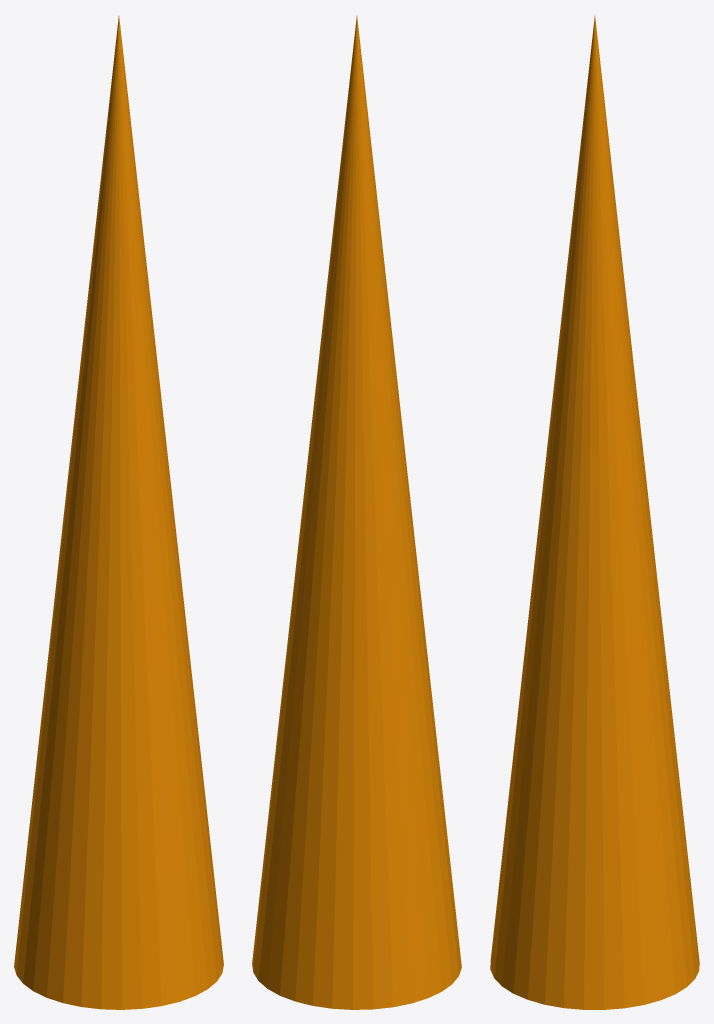
File: @border.013.obj
3 views of the same model, side by side, from view 1: azimuth 30°, elevation 25°; view 2: azimuth 150°, elevation 25°; view 3: azimuth 270°, elevation 25° (orthographic).
Parts seen in each view (by area): view 1: @border.014; view 2: @border.014; view 3: @border.014.
Part boxes in pixels (x1,y1,x2,y2): @border.014: (14,16,223,1009); @border.014: (252,16,461,1009); @border.014: (490,16,699,1009).
Size of the model in its own units: 39.84 by 200 by 39.84.
1 material, 1 textured.
